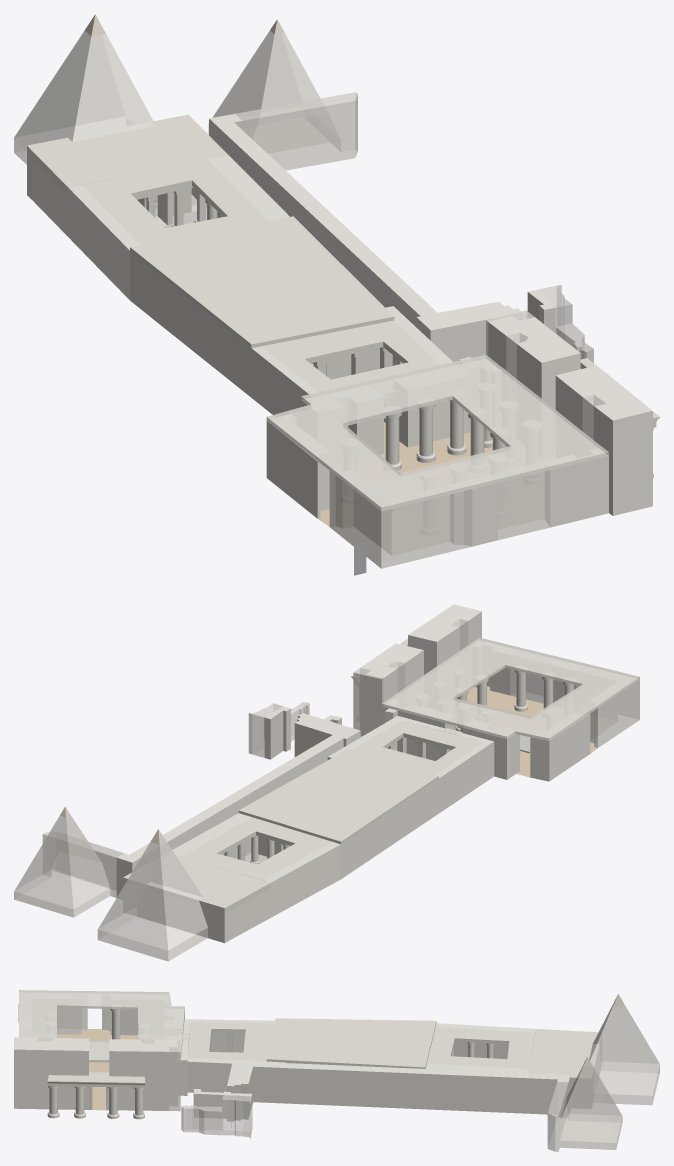
3 renders of one model, top to bottom at view 1: azimuth 30°, elevation 25°; view 2: azimuth 150°, elevation 25°; view 3: azimuth 270°, elevation 25°, orthographic. The views are drawn at different scales.
Parts seen in each view (by area): view 1: Mesh10 ROOF1 G_219_1 Model, Mesh54 Tomb_211_1 Model, Mesh30 G_219_1 Model, Mesh51 Roof_211_1 Tomb_211_1 Model, Mesh56 Model, Mesh37 UNKNOWN1 Tomb_211_1 Model, Mesh11 ROOF1 G_219_1 Model, Mesh39 UNKNOWN1 Tomb_211_1 Model, Mesh55 Model, Mesh58 Model, Mesh44 Round_Column_1_8 Tomb_211_1 Model, Mesh57 Model (+2 smaller); view 2: Mesh30 G_219_1 Model, Mesh10 ROOF1 G_219_1 Model, Mesh54 Tomb_211_1 Model, Mesh56 Model, Mesh51 Roof_211_1 Tomb_211_1 Model, Mesh11 ROOF1 G_219_1 Model, Mesh37 UNKNOWN1 Tomb_211_1 Model, Mesh55 Model, Mesh38 UNKNOWN1 Tomb_211_1 Model, Mesh39 UNKNOWN1 Tomb_211_1 Model, Mesh58 Model, Mesh57 Model; view 3: Mesh56 Model, Mesh10 ROOF1 G_219_1 Model, Mesh54 Tomb_211_1 Model, Mesh30 G_219_1 Model, Mesh51 Roof_211_1 Tomb_211_1 Model, Mesh11 ROOF1 G_219_1 Model, Mesh55 Model, Mesh37 UNKNOWN1 Tomb_211_1 Model, Mesh38 UNKNOWN1 Tomb_211_1 Model, Mesh58 Model, Mesh49 Round_Column_1_13 Tomb_211_1 Model, Mesh53 Round_Column_1_16 Tomb_211_1 Model (+4 smaller).
Part boxes in pixels (x1,y1,x2,y2): Mesh10 ROOF1 G_219_1 Model: (82,159,439,392); Mesh54 Tomb_211_1 Model: (266,316,659,563); Mesh30 G_219_1 Model: (14,14,452,438); Mesh51 Roof_211_1 Tomb_211_1 Model: (266,355,608,511); Mesh56 Model: (208,19,520,361); Mesh37 UNKNOWN1 Tomb_211_1 Model: (329,469,472,568); Mesh11 ROOF1 G_219_1 Model: (27,114,228,194); Mesh39 UNKNOWN1 Tomb_211_1 Model: (488,469,550,540); Mesh55 Model: (527,285,593,363); Mesh58 Model: (68,185,139,250); Mesh44 Round_Column_1_8 Tomb_211_1 Model: (416,398,435,462); Mesh57 Model: (207,155,289,220); Mesh30 G_219_1 Model: (97,716,494,961); Mesh10 ROOF1 G_219_1 Model: (182,721,483,880); Mesh54 Tomb_211_1 Model: (351,604,629,781); Mesh56 Model: (14,713,360,917); Mesh51 Roof_211_1 Tomb_211_1 Model: (382,637,639,740); Mesh11 ROOF1 G_219_1 Model: (123,853,270,913); Mesh37 UNKNOWN1 Tomb_211_1 Model: (576,664,639,747); Mesh55 Model: (248,702,309,759); Mesh38 UNKNOWN1 Tomb_211_1 Model: (353,668,387,736); Mesh39 UNKNOWN1 Tomb_211_1 Model: (510,651,556,703); Mesh58 Model: (263,842,340,882); Mesh57 Model: (169,813,251,856); Mesh56 Model: (193,1057,622,1151); Mesh10 ROOF1 G_219_1 Model: (188,1018,535,1068); Mesh54 Tomb_211_1 Model: (14,994,187,1110); Mesh30 G_219_1 Model: (181,994,659,1108); Mesh51 Roof_211_1 Tomb_211_1 Model: (19,990,184,1062); Mesh11 ROOF1 G_219_1 Model: (528,1029,601,1082); Mesh55 Model: (181,1091,252,1138); Mesh37 UNKNOWN1 Tomb_211_1 Model: (19,992,87,1034); Mesh38 UNKNOWN1 Tomb_211_1 Model: (169,1039,180,1111); Mesh58 Model: (436,1023,536,1032); Mesh49 Round_Column_1_13 Tomb_211_1 Model: (110,1004,121,1039); Mesh53 Round_Column_1_16 Tomb_211_1 Model: (74,1086,85,1118).
Bounding box in the file's own units: 24 × 7.95 × 49.49.
